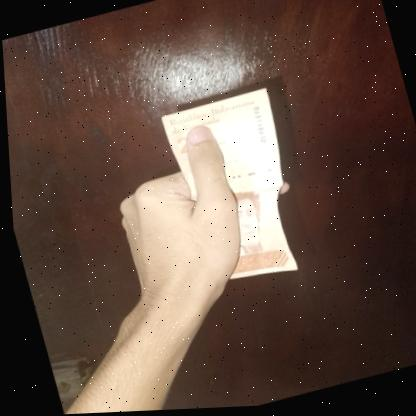twenty-front-vef: (157, 88, 312, 297)
